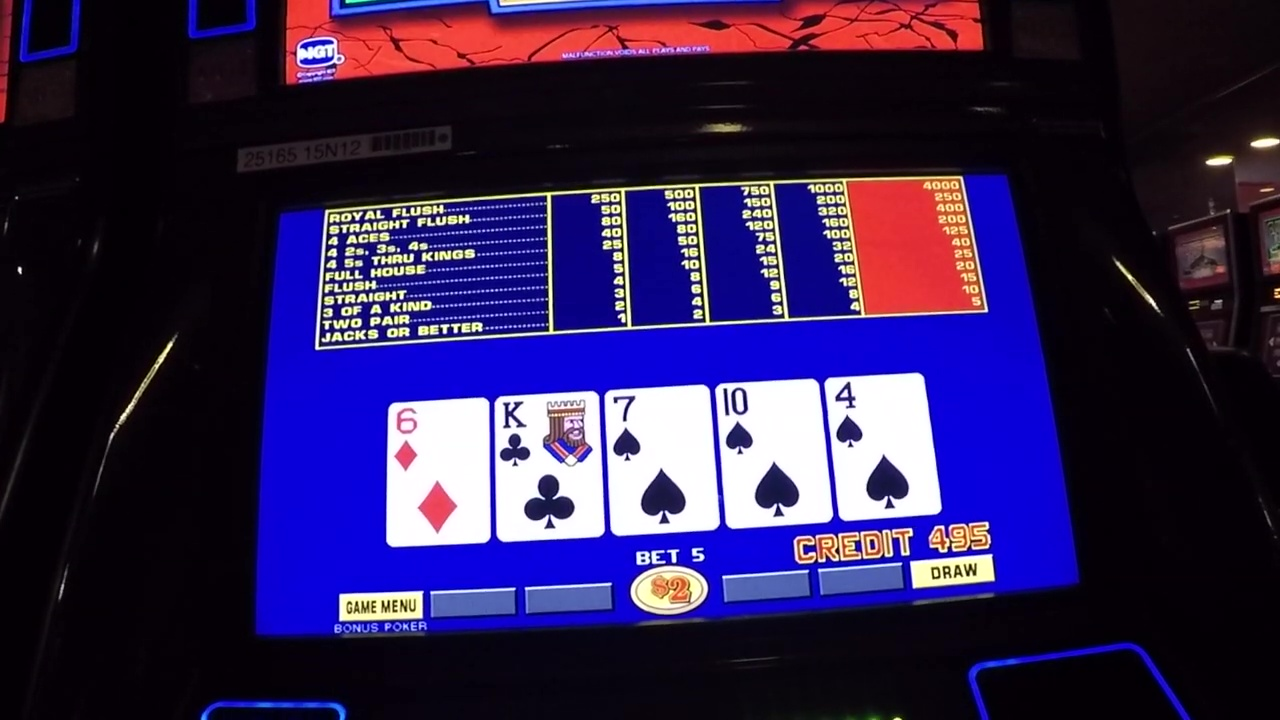CK: (497, 395, 599, 473)
D6: (389, 403, 485, 475)
S4: (834, 375, 925, 452)
S7: (610, 391, 708, 464)
ST: (720, 383, 820, 460)
